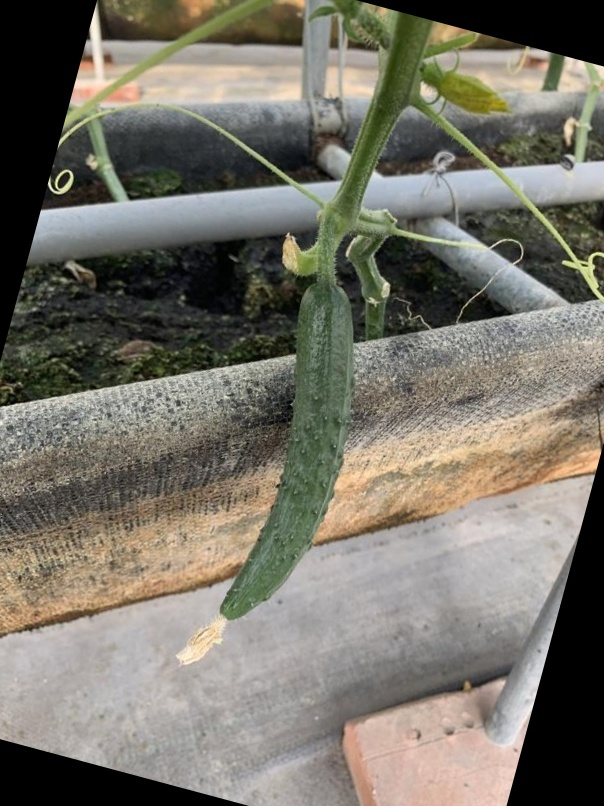mature: (210, 277, 367, 638)
